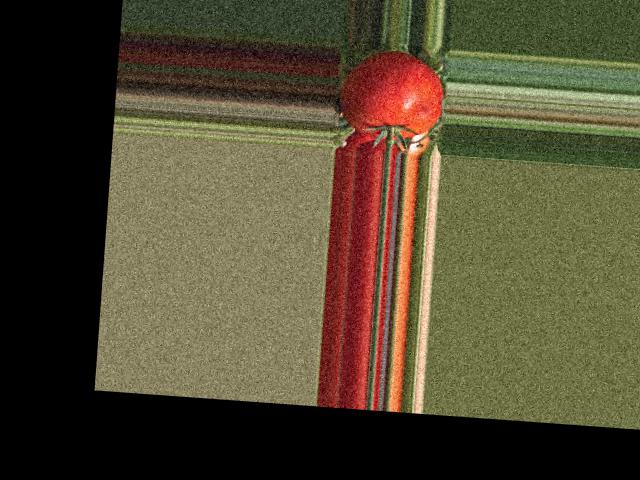tomato: (338, 48, 446, 142)
